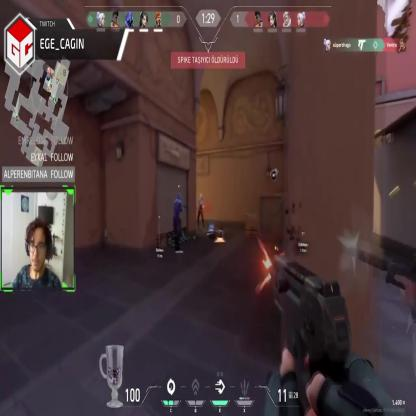enemy: (197, 194, 204, 232)
enemy_head: (199, 194, 202, 199)
